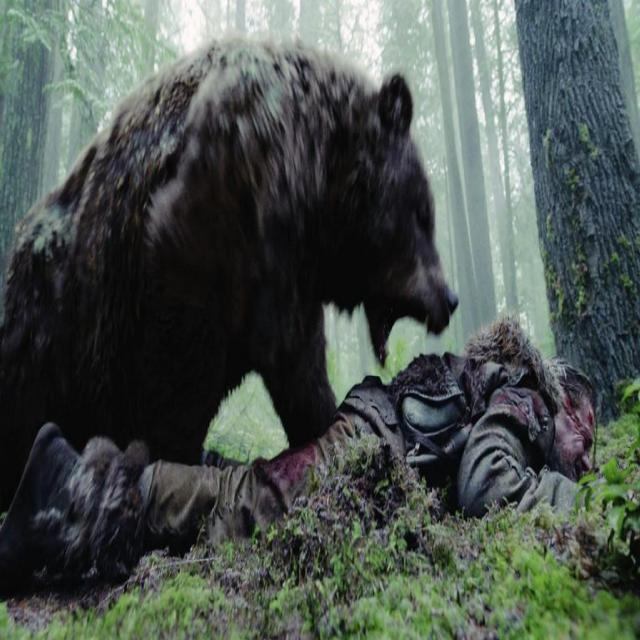Bear: (0, 34, 459, 522)
